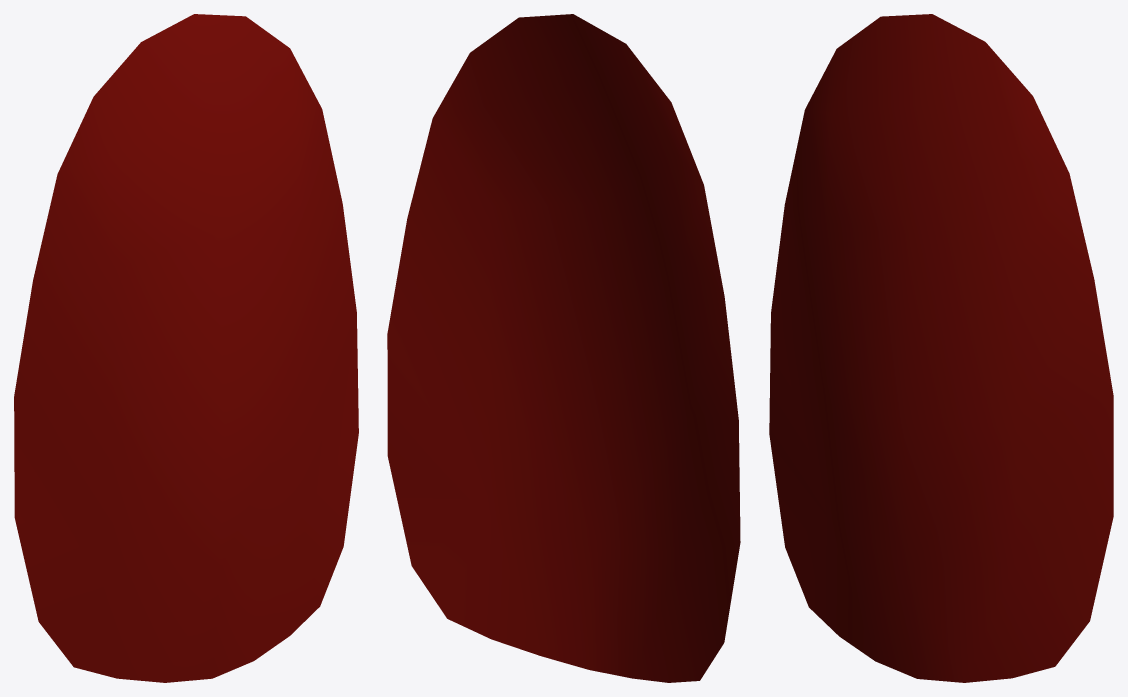
The model's file is MD_nail_natural_HandL.Middle.fbx.
3 views of the same model, side by side, from view 1: azimuth 30°, elevation 25°; view 2: azimuth 150°, elevation 25°; view 3: azimuth 330°, elevation 25° (orthographic). The views are drawn at different scales.
Parts seen in each view (by area): view 1: MD_nail_natural_HandL.Middle; view 2: MD_nail_natural_HandL.Middle; view 3: MD_nail_natural_HandL.Middle.
Part boxes in pixels (x1,y1,x2,y2): MD_nail_natural_HandL.Middle: (14,14,358,682); MD_nail_natural_HandL.Middle: (387,14,740,682); MD_nail_natural_HandL.Middle: (769,14,1113,682).
Bounding box in the file's own units: 0.7282 × 1.32 × 0.1414.
